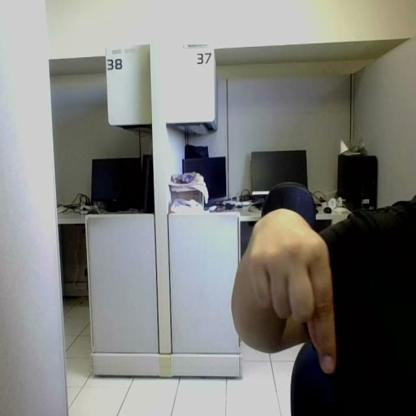Q: (252, 238, 335, 374)
